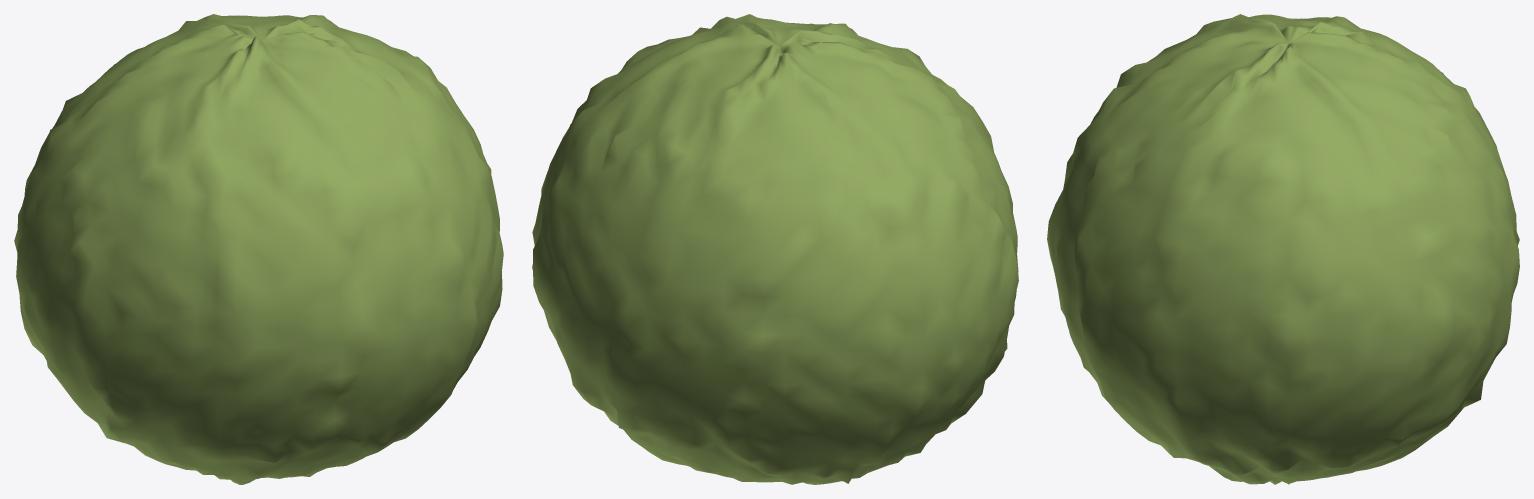
File: A-NEW-20261027-CABBAGE-001_LOD2_R2.fbx
The picture shows the model from 3 angles, left to right: view 1: azimuth 30°, elevation 25°; view 2: azimuth 150°, elevation 25°; view 3: azimuth 270°, elevation 25°; orthographic projection.
Parts seen in each view (by area): view 1: continuous original cabbage leaf head; view 2: continuous original cabbage leaf head; view 3: continuous original cabbage leaf head.
Part boxes in pixels (x1,y1,x2,y2): continuous original cabbage leaf head: (14,14,503,484); continuous original cabbage leaf head: (532,14,1018,484); continuous original cabbage leaf head: (1047,14,1519,484).
Bounding box in the file's own units: 25.38 × 24.81 × 24.21.
